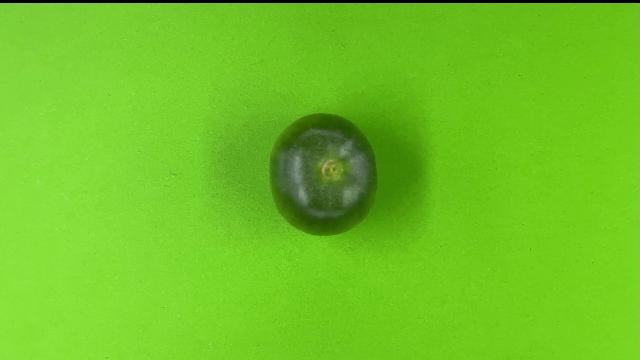Fruit Maturation: (265, 110, 382, 239)
